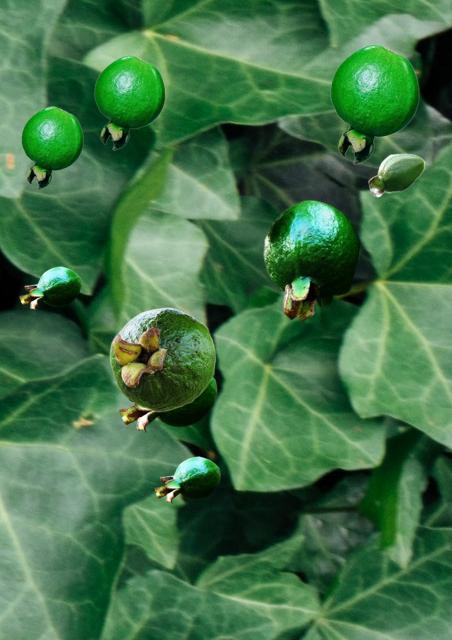guava: (263, 199, 360, 321), (109, 307, 215, 411), (330, 44, 418, 163), (94, 55, 164, 149), (119, 377, 216, 431), (21, 106, 82, 188), (154, 456, 219, 502), (19, 266, 80, 309), (368, 153, 424, 196)
